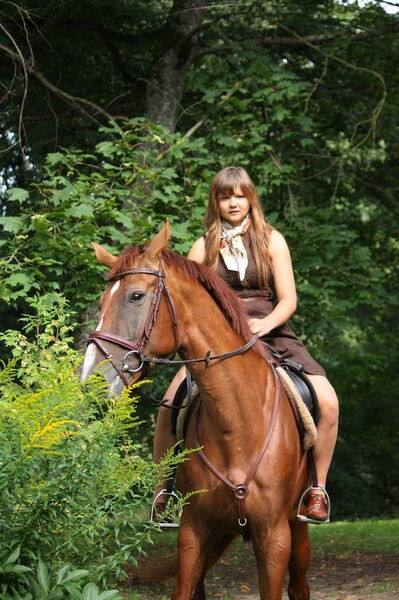person: (151, 159, 339, 344)
